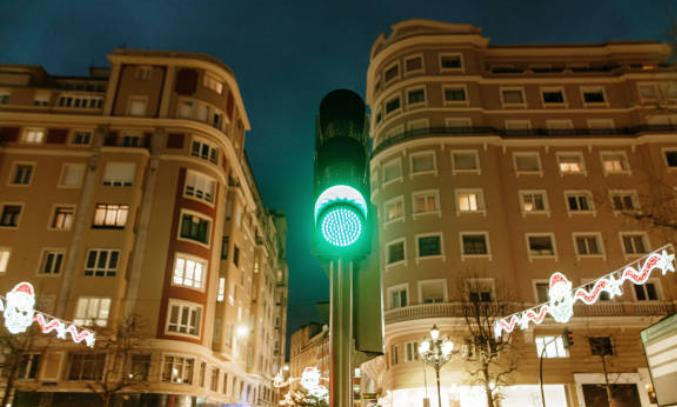green_light: (314, 88, 370, 257)
